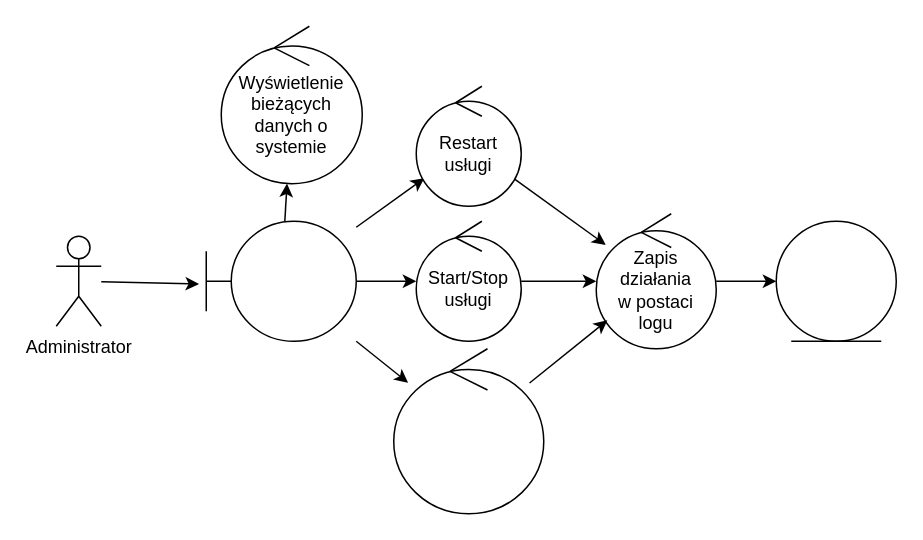
Some shapes in this 923 by 540 pixel diagram are drawn without their labels. Here are the shapes that lost their labels. From the top down, the centre of each, then its label:
At (x=280, y=280): "Panel monitoringu".
At (x=835, y=280): "Baza danych".
At (x=468, y=430): "Wyświetlenie raportów o ewentualnych błędach".
